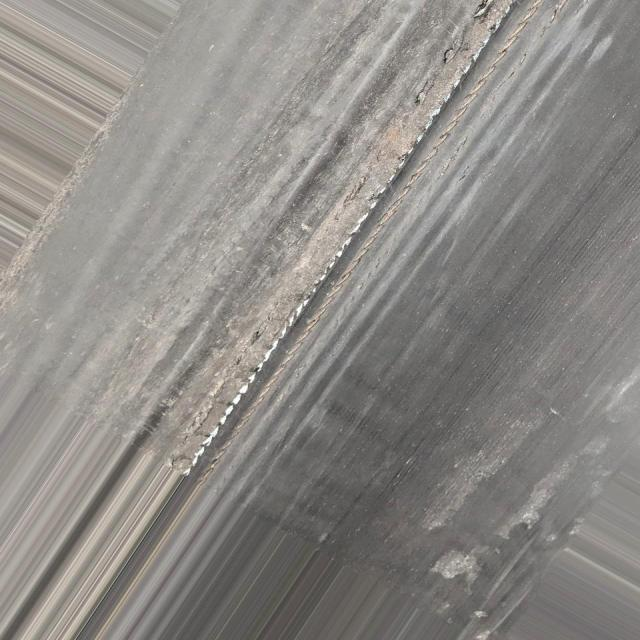impact damage: (156, 0, 545, 495)
